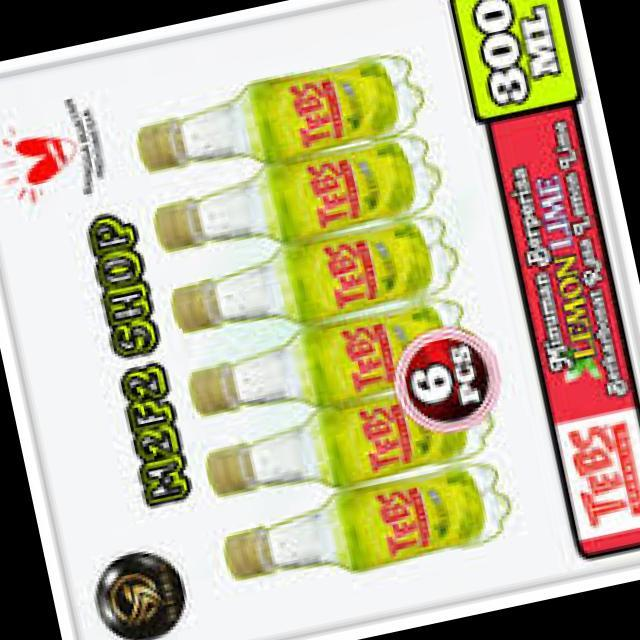good: (160, 194, 464, 368), (211, 450, 515, 616), (138, 120, 454, 278), (122, 38, 428, 200), (179, 358, 481, 503), (172, 292, 474, 436)
